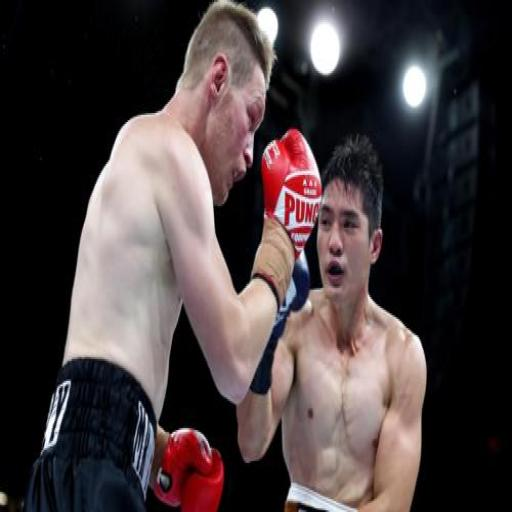boxing: (22, 0, 322, 510), (221, 59, 478, 512)
